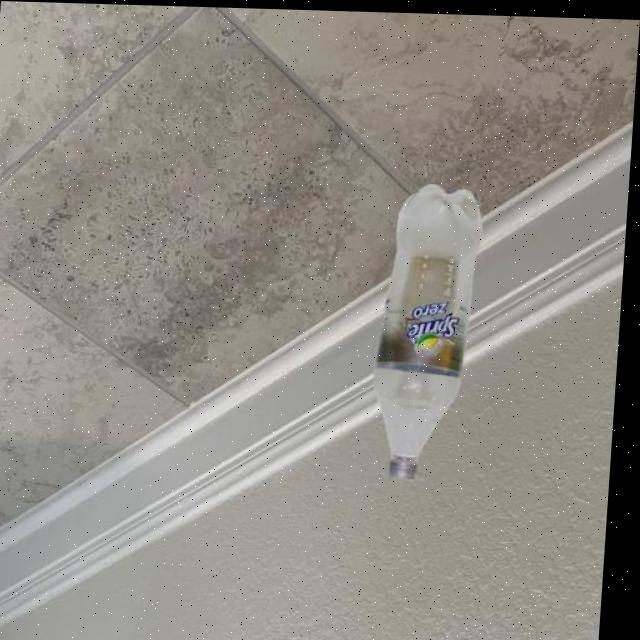bottle: (373, 179, 489, 481)
